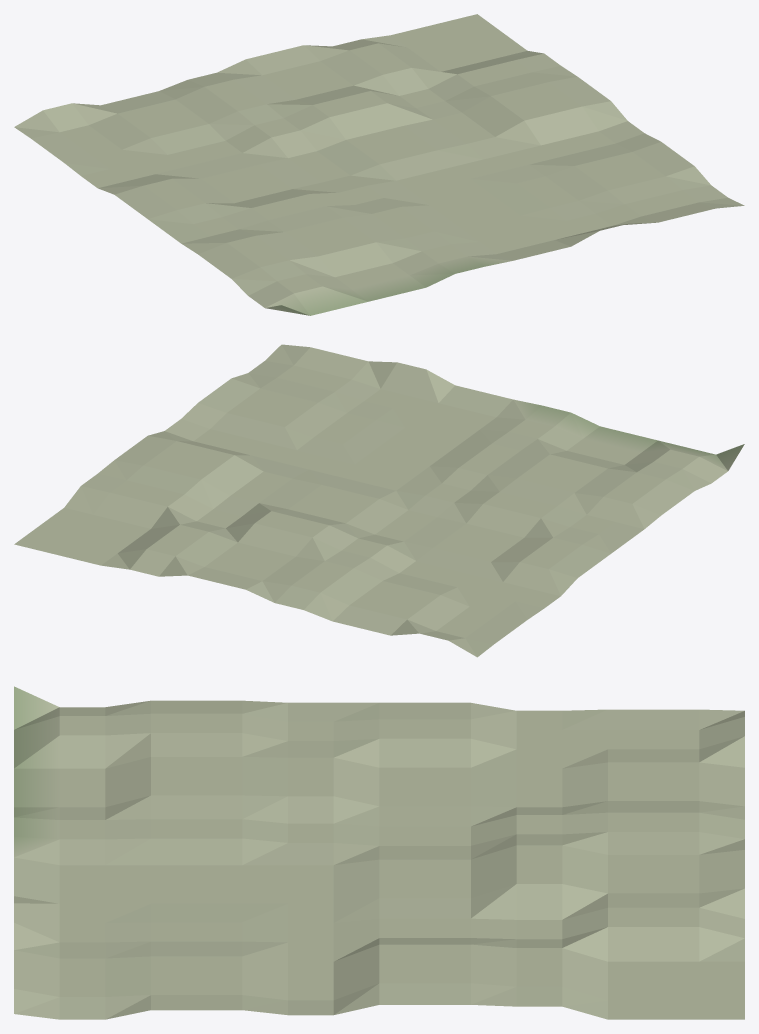
3 views of the same model, one above another, from view 1: azimuth 30°, elevation 25°; view 2: azimuth 150°, elevation 25°; view 3: azimuth 270°, elevation 25° (orthographic). The views are drawn at different scales.
Size of the model in its own units: 32 by 1.18 by 32.
